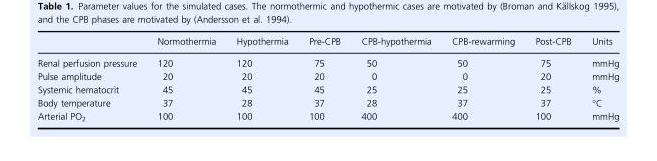table: (36, 36, 618, 121)
table column: (36, 36, 146, 121), (350, 36, 441, 121), (441, 36, 524, 121), (146, 36, 225, 121), (225, 36, 297, 121), (524, 36, 580, 121), (297, 36, 350, 121), (580, 36, 618, 121)
table column header: (36, 36, 618, 52)
table row: (36, 52, 618, 69), (36, 36, 618, 52), (36, 69, 618, 83), (36, 95, 618, 109), (36, 83, 618, 95), (36, 109, 618, 121)
